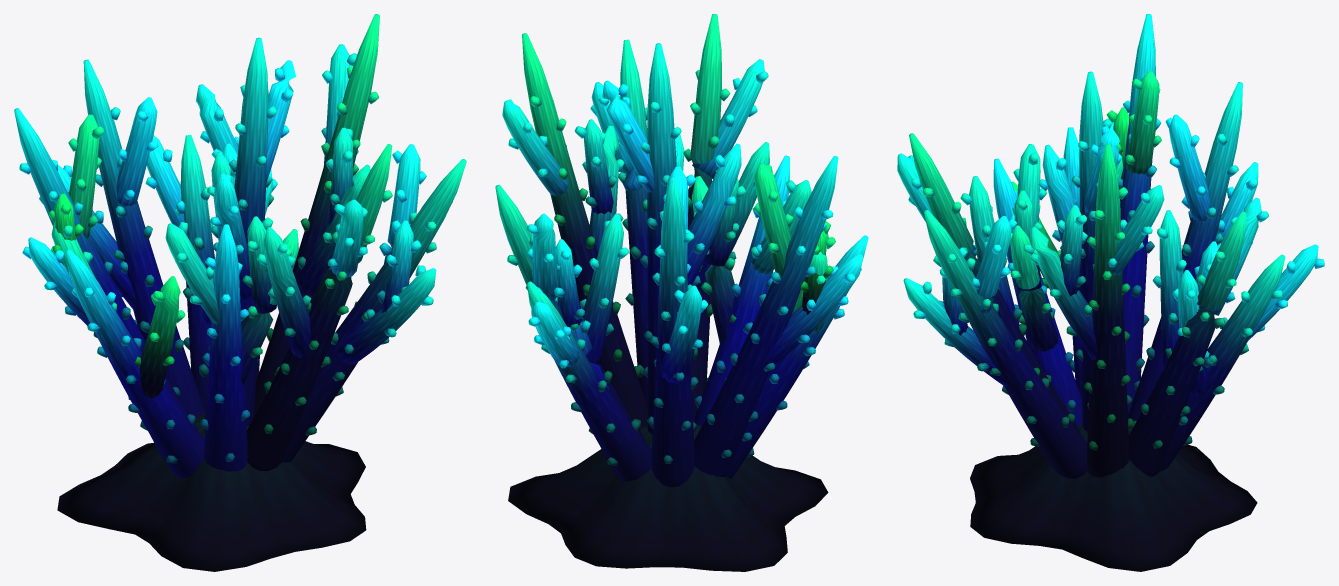
Rendered from coral-acropora-staghorn.glb.
The picture shows the model from 3 angles, left to right: view 1: azimuth 30°, elevation 25°; view 2: azimuth 150°, elevation 25°; view 3: azimuth 270°, elevation 25°; orthographic projection. The views are drawn at different scales.
Visible parts, largest first — view 1: Coral_Acropora_Staghorn; view 2: Coral_Acropora_Staghorn; view 3: Coral_Acropora_Staghorn.
Part boxes in pixels (x1=…): Coral_Acropora_Staghorn: x1=14, y1=14, x2=466, y2=571; Coral_Acropora_Staghorn: x1=495, y1=14, x2=868, y2=571; Coral_Acropora_Staghorn: x1=897, y1=14, x2=1324, y2=571.
Bounding box in the file's own units: 0.1746 × 0.2211 × 0.1942.
1 material, 1 textured.
